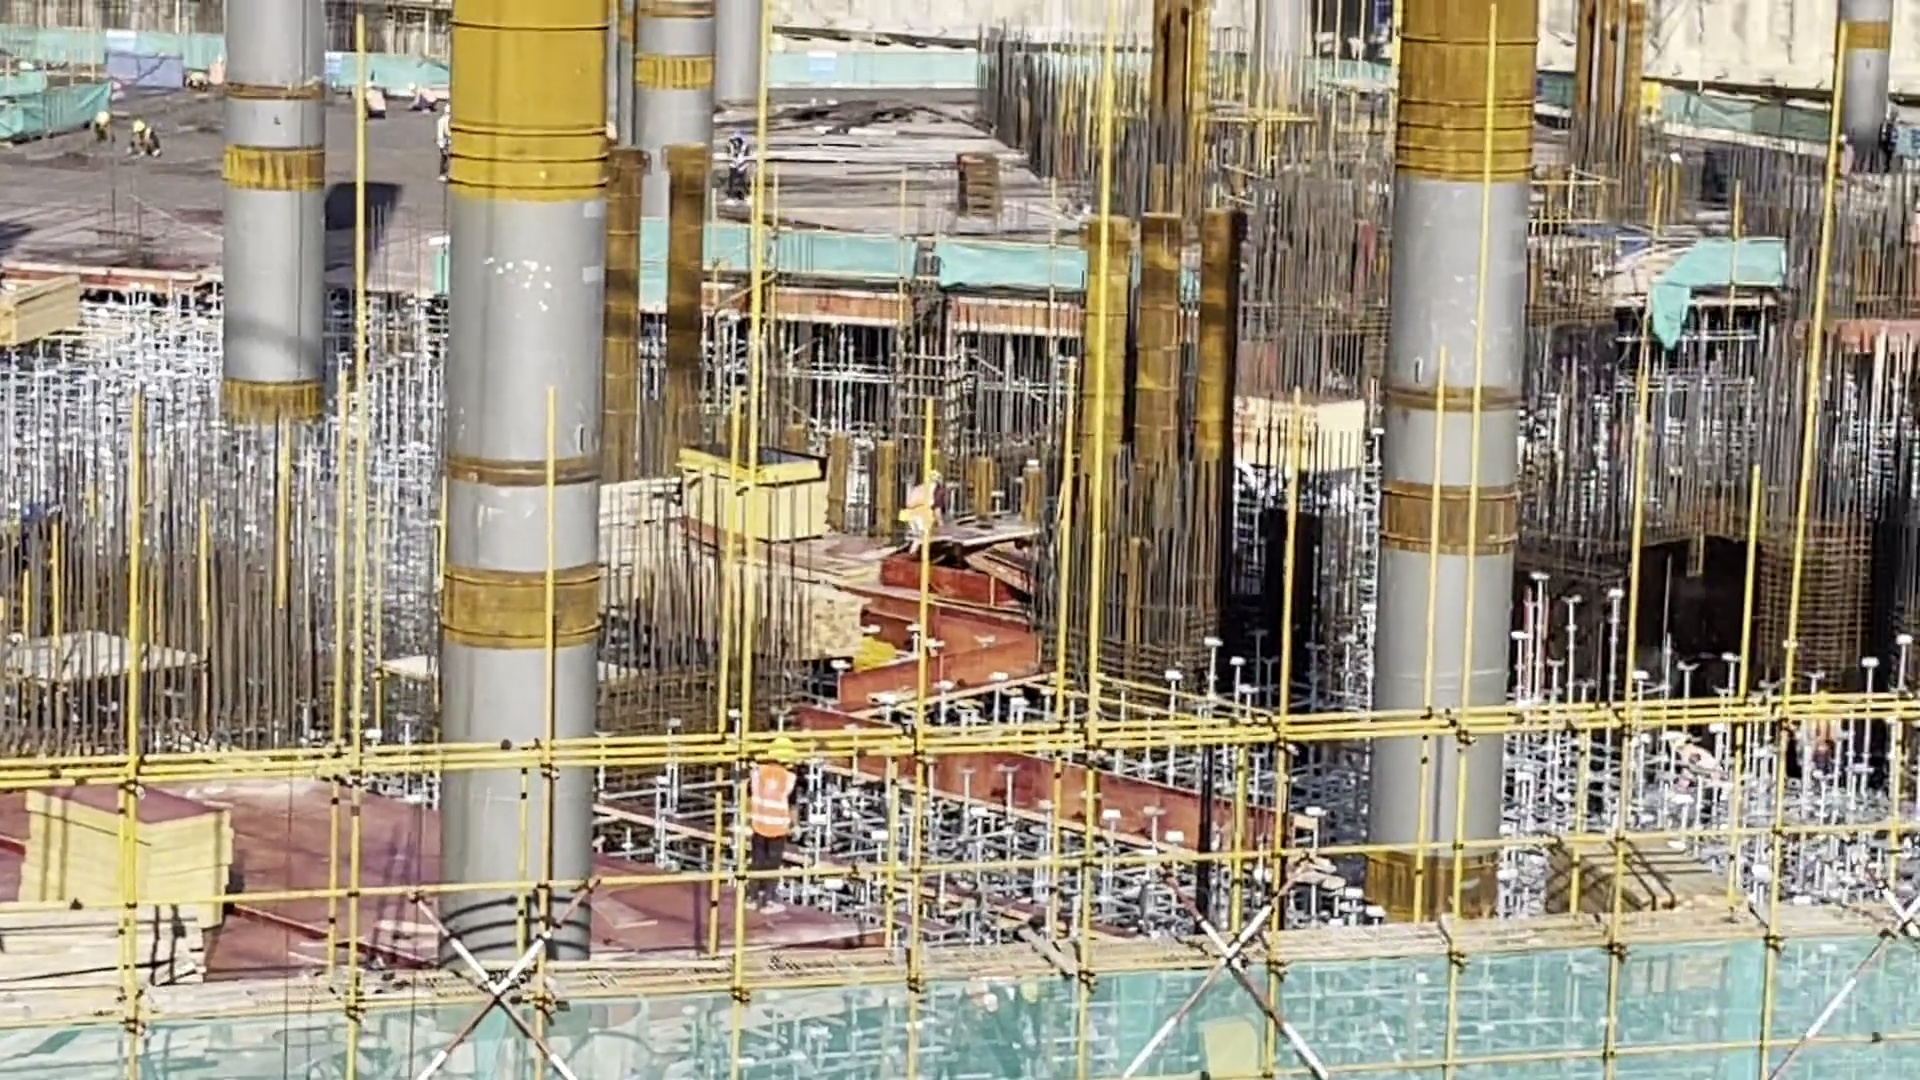person: (742, 745, 784, 901), (901, 465, 946, 570), (1671, 734, 1721, 827), (1772, 705, 1815, 791), (1809, 685, 1847, 771), (131, 115, 171, 193), (726, 115, 764, 200), (341, 85, 379, 133), (436, 105, 454, 185), (407, 83, 432, 121), (84, 108, 111, 143)
